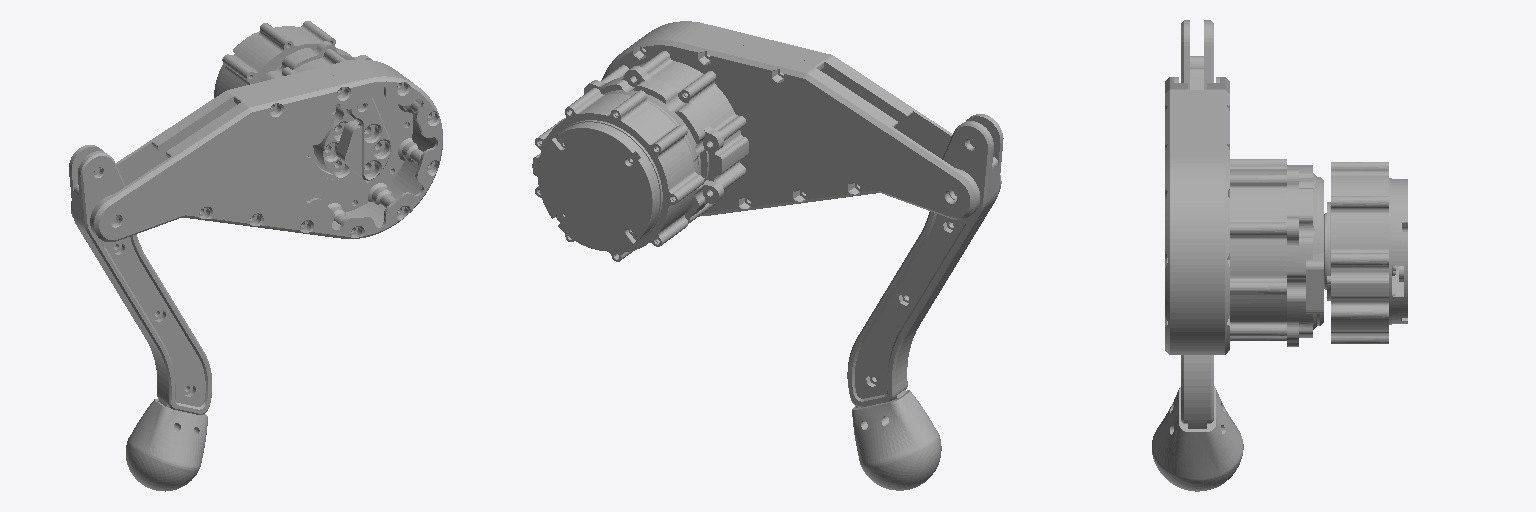
URDF robot description (cybergear_one_leg):
<?xml version="1.0" ?>
<!-- =================================================================================== -->
<!-- |    This document was autogenerated by xacro from [local-path]/catkin_ws/src/cybergear_one_leg_description/urdf/cybergear_one_leg.xacro | -->
<!-- |    EDITING THIS FILE BY HAND IS NOT RECOMMENDED                                 | -->
<!-- =================================================================================== -->
<robot name="cybergear_one_leg">
  <material name="silver">
    <color rgba="0.700 0.700 0.700 1.000"/>
  </material>
  <transmission name="joint_hy_tran">
    <type>transmission_interface/SimpleTransmission</type>
    <joint name="joint_hy">
      <hardwareInterface>hardware_interface/EffortJointInterface</hardwareInterface>
    </joint>
    <actuator name="joint_hy_actr">
      <hardwareInterface>hardware_interface/EffortJointInterface</hardwareInterface>
      <mechanicalReduction>1</mechanicalReduction>
    </actuator>
  </transmission>
  <transmission name="joint_knee_tran">
    <type>transmission_interface/SimpleTransmission</type>
    <joint name="joint_knee">
      <hardwareInterface>hardware_interface/EffortJointInterface</hardwareInterface>
    </joint>
    <actuator name="joint_knee_actr">
      <hardwareInterface>hardware_interface/EffortJointInterface</hardwareInterface>
      <mechanicalReduction>1</mechanicalReduction>
    </actuator>
  </transmission>
  <gazebo>
    <plugin filename="libgazebo_ros_control.so" name="control"/>
  </gazebo>
  <gazebo reference="hip">
    <material>Gazebo/Silver</material>
    <mu1>0.2</mu1>
    <mu2>0.2</mu2>
    <selfCollide>true</selfCollide>
    <gravity>true</gravity>
  </gazebo>
  <gazebo reference="uleg">
    <material>Gazebo/Silver</material>
    <mu1>0.2</mu1>
    <mu2>0.2</mu2>
    <selfCollide>true</selfCollide>
  </gazebo>
  <gazebo reference="lleg">
    <material>Gazebo/Silver</material>
    <mu1>0.2</mu1>
    <mu2>0.2</mu2>
    <selfCollide>true</selfCollide>
  </gazebo>
  <link name="hip">
    <inertial>
      <origin rpy="0 0 0" xyz="0.0002819920937144005 0.015839426830908936 1.1514529854865785e-05"/>
      <mass value="0.31861004240365326"/>
      <inertia ixx="0.000126" ixy="0.0" ixz="0.0" iyy="0.000213" iyz="0.0" izz="0.00013"/>
    </inertial>
    <visual>
      <origin rpy="0 0 0" xyz="0 0 0"/>
      <geometry>
        <mesh filename="package://cybergear_one_leg_description/meshes/hip.stl" scale="0.001 0.001 0.001"/>
      </geometry>
      <material name="silver"/>
    </visual>
    <collision>
      <origin rpy="0 0 0" xyz="0 0 0"/>
      <geometry>
        <mesh filename="package://cybergear_one_leg_description/meshes/hip.stl" scale="0.001 0.001 0.001"/>
      </geometry>
    </collision>
  </link>
  <link name="uleg">
    <inertial>
      <origin rpy="0 0 0" xyz="-0.010595257498656998 -0.033951385417500785 0.0012442950145930855"/>
      <mass value="0.4855306568273375"/>
      <inertia ixx="0.000326" ixy="-0.000108" ixz="2.9e-05" iyy="0.000864" iyz="1.2e-05" izz="0.000783"/>
    </inertial>
    <visual>
      <origin rpy="0 0 0" xyz="0.0 -0.0 0.0"/>
      <geometry>
        <mesh filename="package://cybergear_one_leg_description/meshes/uleg.stl" scale="0.001 0.001 0.001"/>
      </geometry>
      <material name="silver"/>
    </visual>
    <collision>
      <origin rpy="0 0 0" xyz="0.0 -0.0 0.0"/>
      <geometry>
        <mesh filename="package://cybergear_one_leg_description/meshes/uleg.stl" scale="0.001 0.001 0.001"/>
      </geometry>
    </collision>
  </link>
  <link name="lleg">
    <inertial>
      <origin rpy="0 0 0" xyz="0.029382679354009608 -0.006951791165447925 -0.09243709675891992"/>
      <mass value="0.097550817276456"/>
      <inertia ixx="0.000328" ixy="-0.0" ixz="7.8e-05" iyy="0.000357" iyz="0.0" izz="3.6e-05"/>
    </inertial>
    <visual>
      <origin rpy="0 0 0" xyz="0.15 0.048 0.000261"/>
      <geometry>
        <mesh filename="package://cybergear_one_leg_description/meshes/lleg.stl" scale="0.001 0.001 0.001"/>
      </geometry>
      <material name="silver"/>
    </visual>
    <collision>
      <origin rpy="0 0 0" xyz="0.15 0.048 0.000261"/>
      <geometry>
        <mesh filename="package://cybergear_one_leg_description/meshes/lleg.stl" scale="0.001 0.001 0.001"/>
      </geometry>
    </collision>
  </link>
  <joint name="joint_hy" type="continuous">
    <origin rpy="0 0 0" xyz="0.0 0.0 0.0"/>
    <parent link="hip"/>
    <child link="uleg"/>
    <axis xyz="0.0 -1.0 -0.0"/>
  </joint>
  <joint name="joint_knee" type="revolute">
    <origin rpy="0 0 0" xyz="-0.15 -0.048 -0.000261"/>
    <parent link="uleg"/>
    <child link="lleg"/>
    <axis xyz="0.0 -1.0 0.0"/>
    <limit effort="100" lower="-1.745329" upper="0.698132" velocity="100"/>
  </joint>
</robot>

--- Render facts (derived) ---
3 views of the same robot in one strip: view 1: azimuth 30°, elevation 25°; view 2: azimuth 150°, elevation 25°; view 3: azimuth 270°, elevation 25° (orthographic).
Robot: cybergear_one_leg — 3 links, 2 joints (1 revolute, 1 continuous); root link hip; default pose: every joint at zero.
Visible links, largest first — view 1: uleg, lleg, hip; view 2: uleg, hip, lleg; view 3: uleg, hip, lleg.
Boxes of the visible links, <box> form: uleg: <box>71,41,442,241</box>; lleg: <box>69,145,211,491</box>; hip: <box>214,21,335,97</box>; uleg: <box>584,21,1001,223</box>; hip: <box>532,88,703,261</box>; lleg: <box>847,114,1003,490</box>; uleg: <box>1165,77,1323,354</box>; hip: <box>1324,162,1407,343</box>; lleg: <box>1152,20,1243,491</box>.
Size in the robot's own frame: 0.212 by 0.1114 by 0.2107 metres.
Meshes: 3 distinct files referenced, 3 mesh visuals loaded (3 binary STL).
